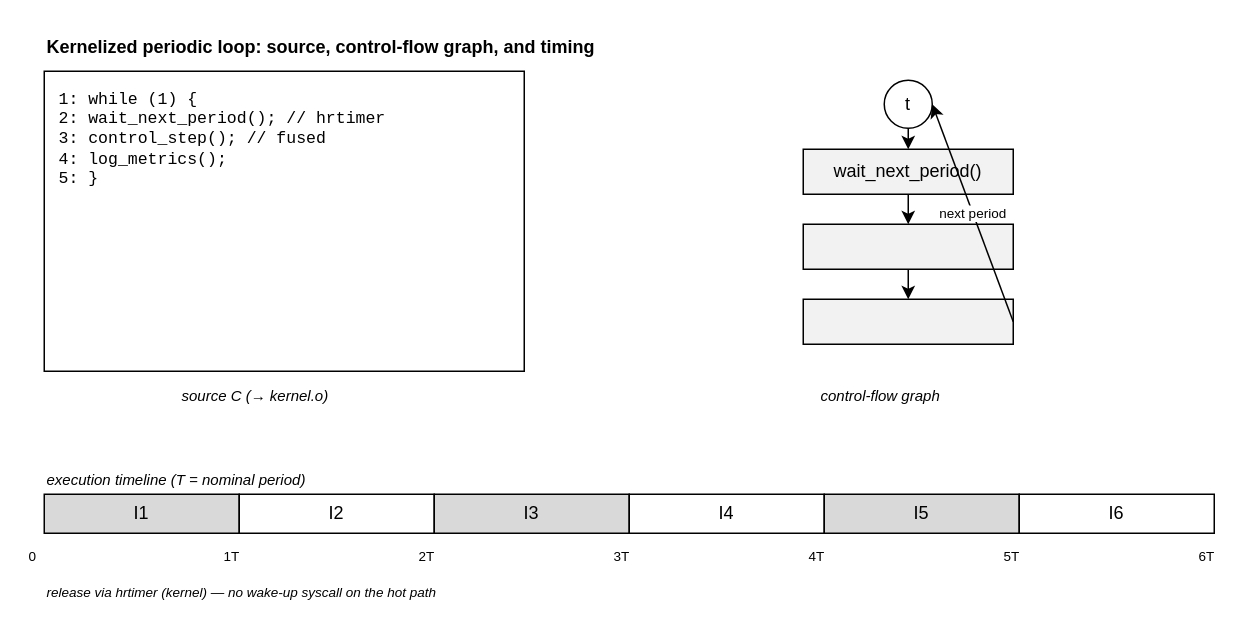
The diagram is 1257 pixels wide and 627 high, and some of its shapes have lost their labels. The shapes that lost their labels are listed below. From the top down, each one's centre as x and y in pixels, then its label:
the point at 907,246: control_step() [fused]
the point at 907,321: log_metrics()
